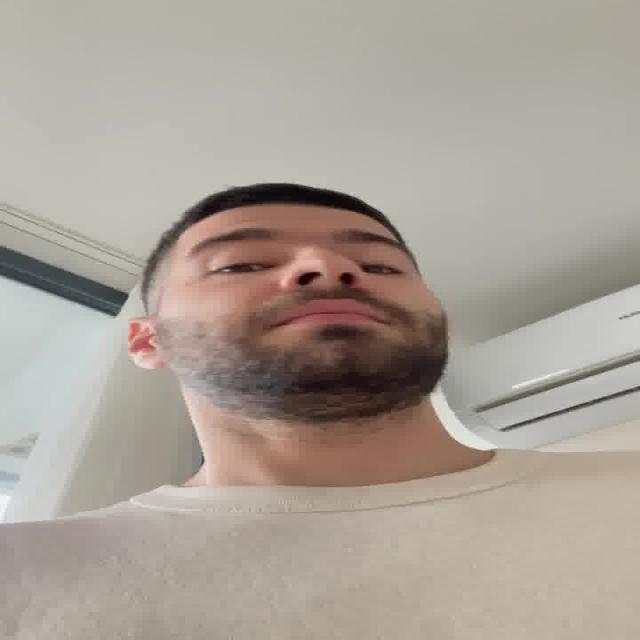earlobe: (126, 316, 167, 371)
